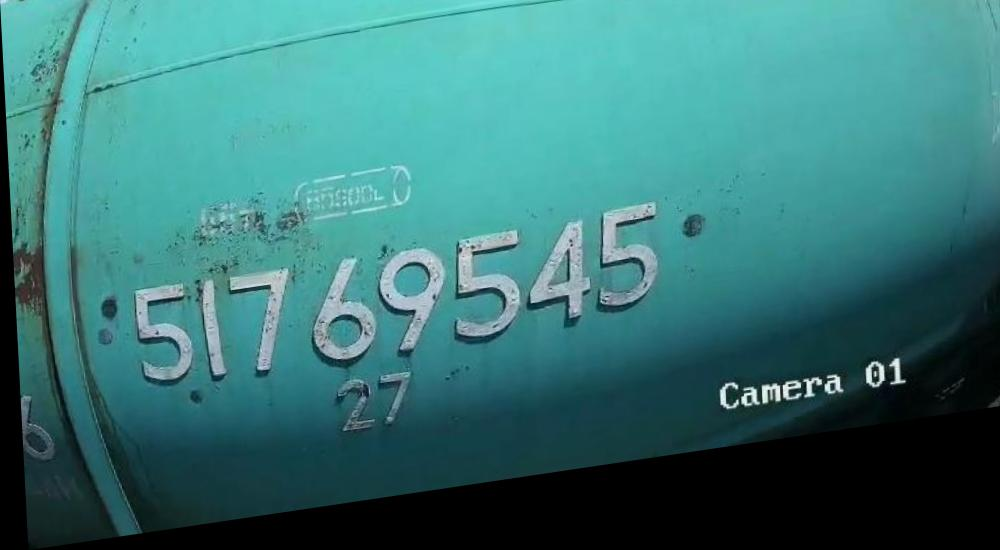Wagon-number: (127, 216, 668, 399)
